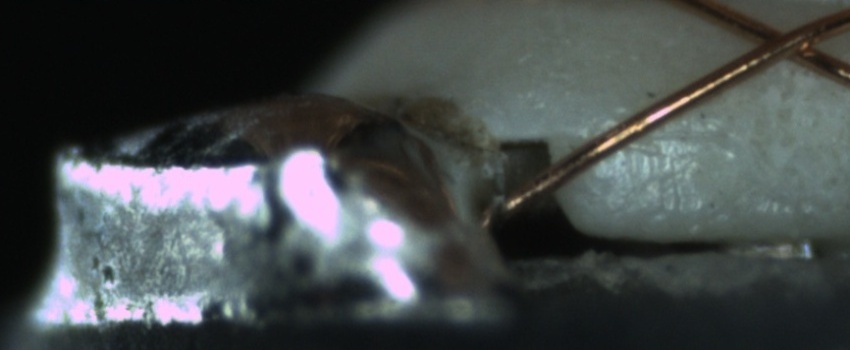CL: (729, 10, 835, 74)
DL: (596, 110, 724, 164)
